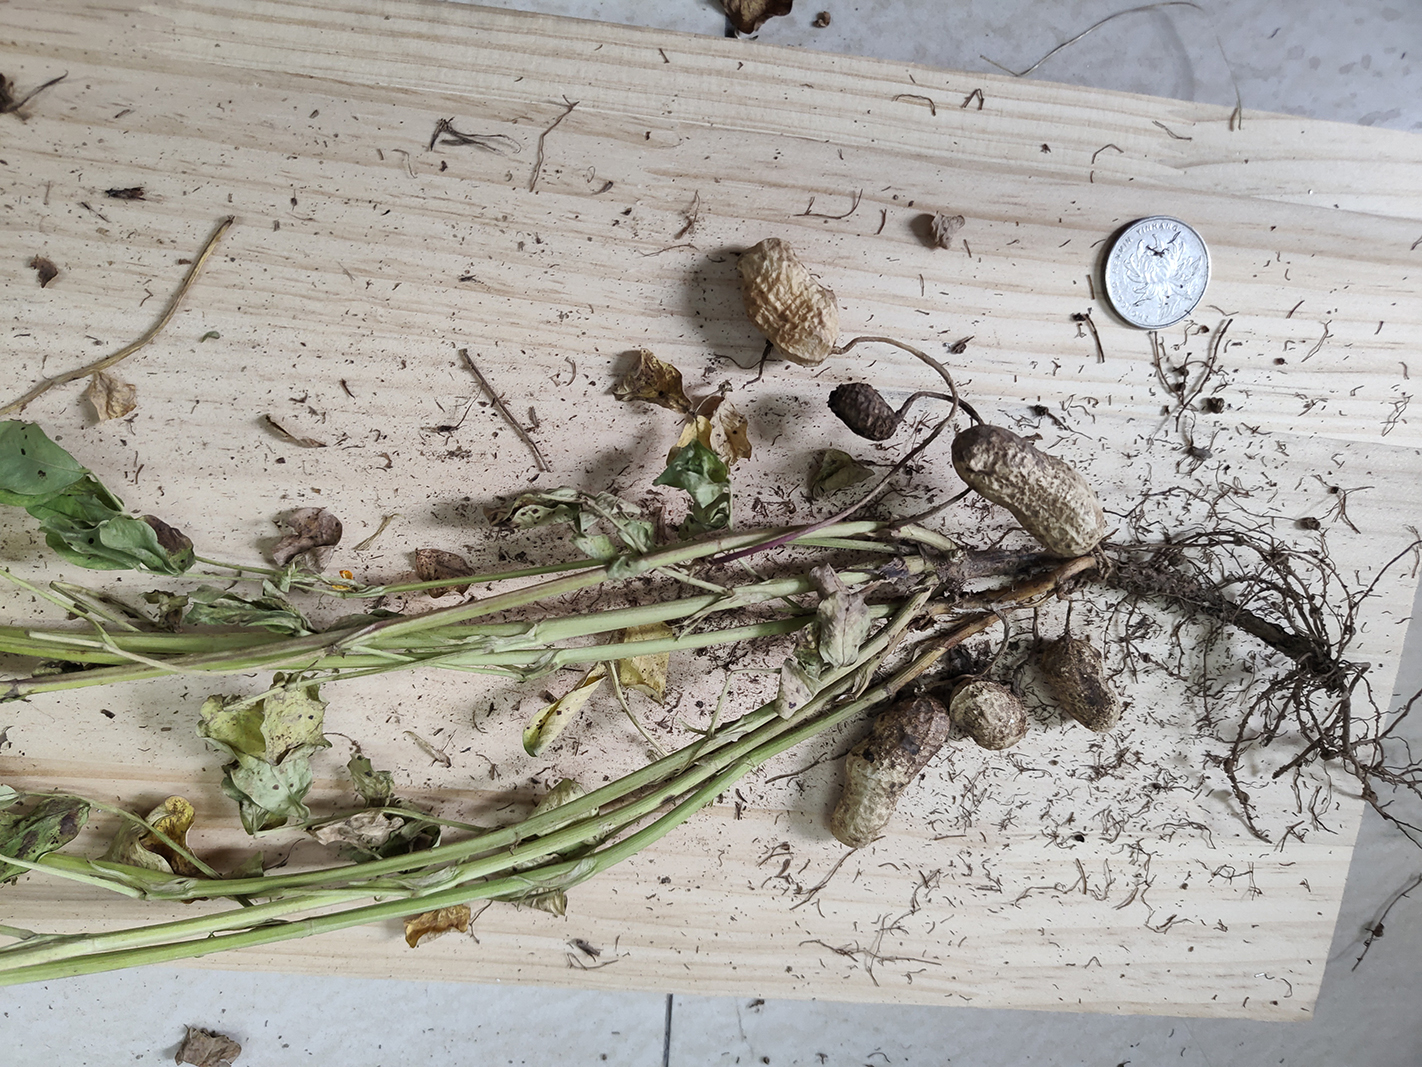h: (831, 689, 952, 848), (952, 427, 1105, 553), (738, 241, 842, 365), (949, 677, 1028, 750)
l: (1043, 635, 1124, 733), (826, 377, 901, 442)
